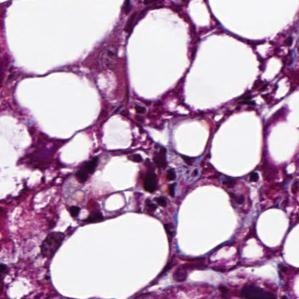inflammation: (129, 142, 180, 210), (73, 152, 104, 187), (271, 32, 298, 71), (65, 202, 108, 224), (222, 170, 266, 187)
